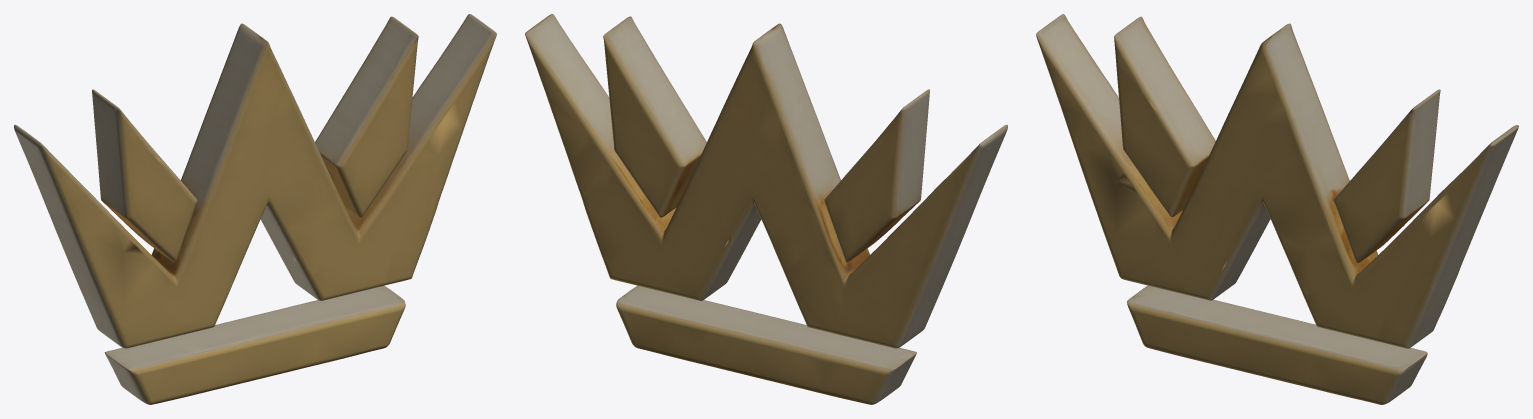
The model's file is coroa3D.glb.
3 renders of one model, left to right at view 1: azimuth 30°, elevation 25°; view 2: azimuth 150°, elevation 25°; view 3: azimuth 330°, elevation 25°, orthographic.
Visible parts, largest first — view 1: node_0; view 2: node_0; view 3: node_0.
Part boxes in pixels (box(x1,y1,x2,y2)): node_0: box(14, 14, 496, 404); node_0: box(525, 14, 1007, 404); node_0: box(1036, 14, 1518, 404).
Bounding box in the file's own units: 1.07 × 0.7492 × 0.1176.
1 material, 1 textured.
